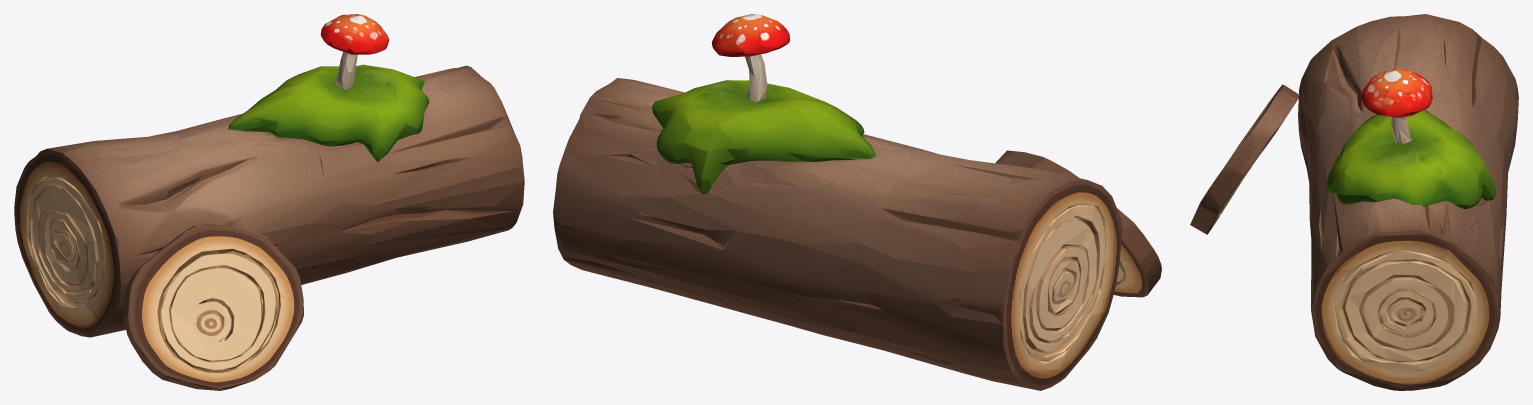
File: log.glb
The picture shows the model from 3 angles, left to right: view 1: azimuth 30°, elevation 25°; view 2: azimuth 150°, elevation 25°; view 3: azimuth 270°, elevation 25°; orthographic projection. The views are drawn at different scales.
Bounding box in the file's own units: 1.9 × 1.1 × 1.23.
1 material, 1 textured.
